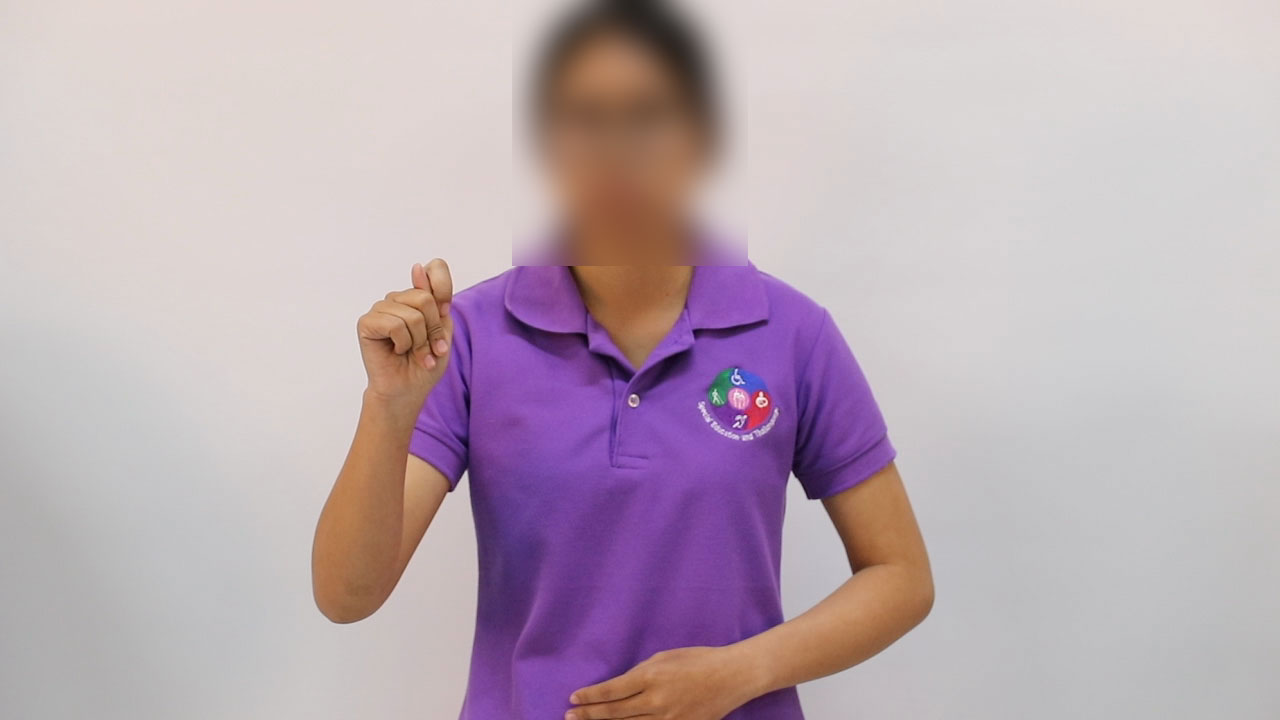tor: (312, 244, 491, 426)
